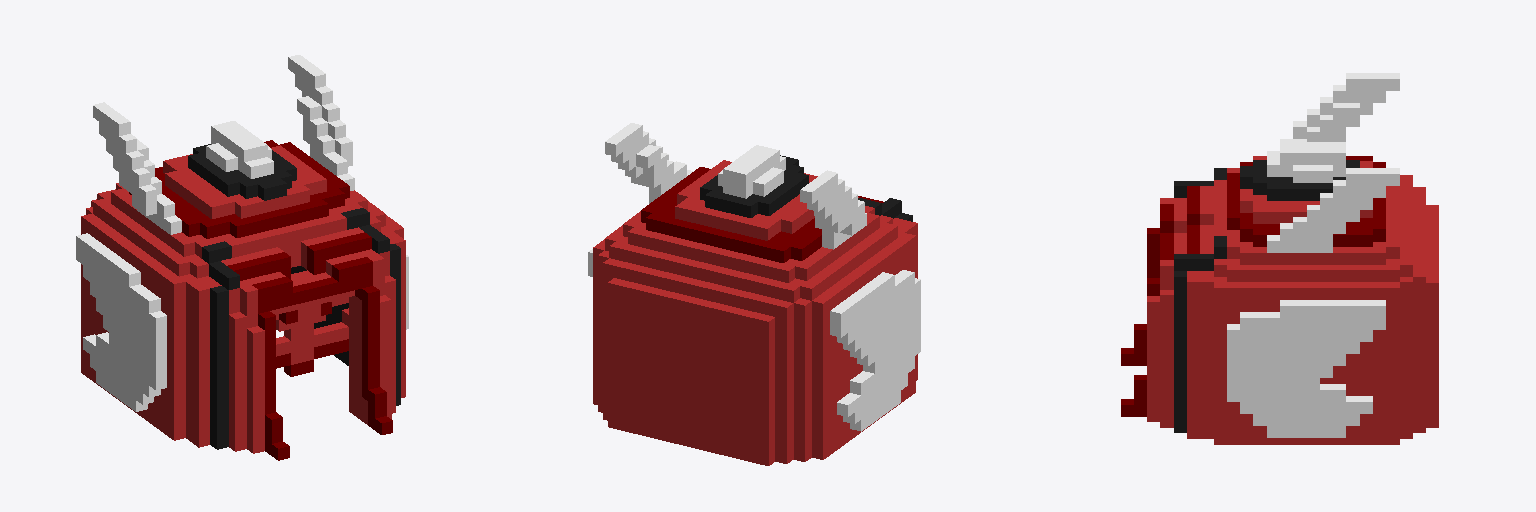
3 views of the same model, side by side, from view 1: azimuth 30°, elevation 25°; view 2: azimuth 150°, elevation 25°; view 3: azimuth 270°, elevation 25° (orthographic).
Visible parts, largest first — view 1: object 1; view 2: object 1; view 3: object 1.
Boxes of the visible parts, x1=… form: object 1: x1=76, y1=55, x2=408, y2=460; object 1: x1=588, y1=123, x2=920, y2=465; object 1: x1=1121, y1=73, x2=1438, y2=444.
Bounding box in the file's own units: 2.2 × 2.2 × 2.4.
Materials: 1 (1 with a texture image).